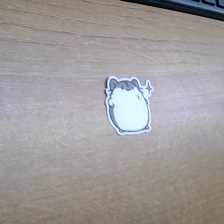mouse: (104, 75, 157, 138)
